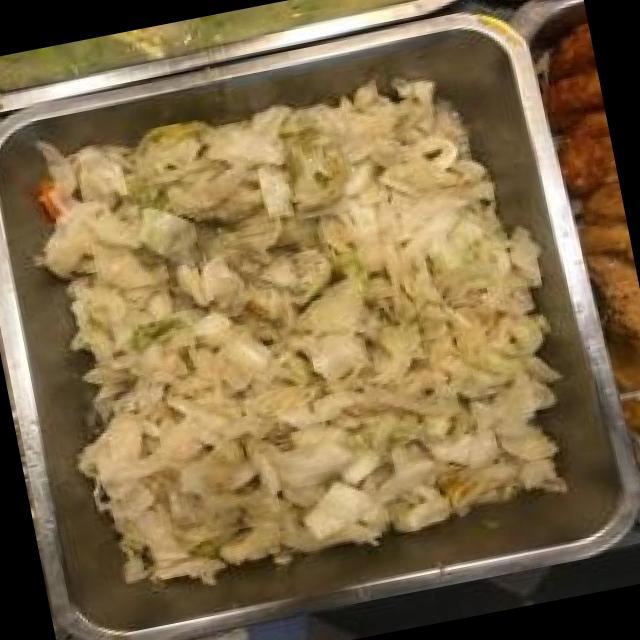chinese_cabbage: (42, 78, 541, 556)
